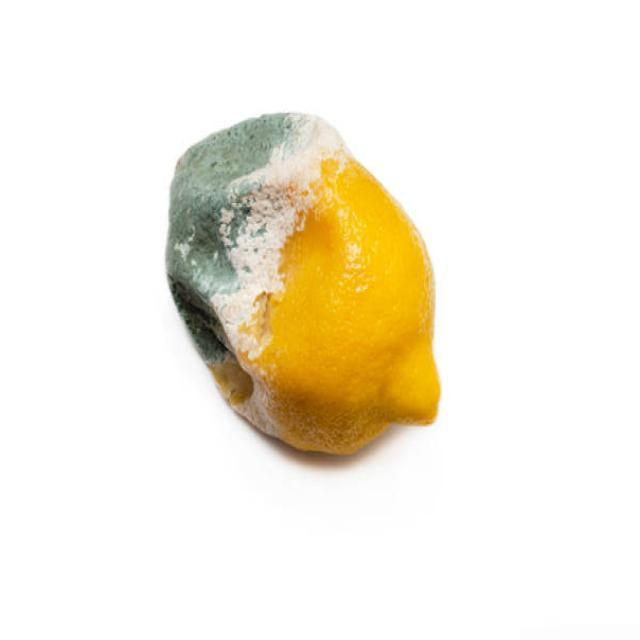Rotten: (162, 110, 440, 455)
